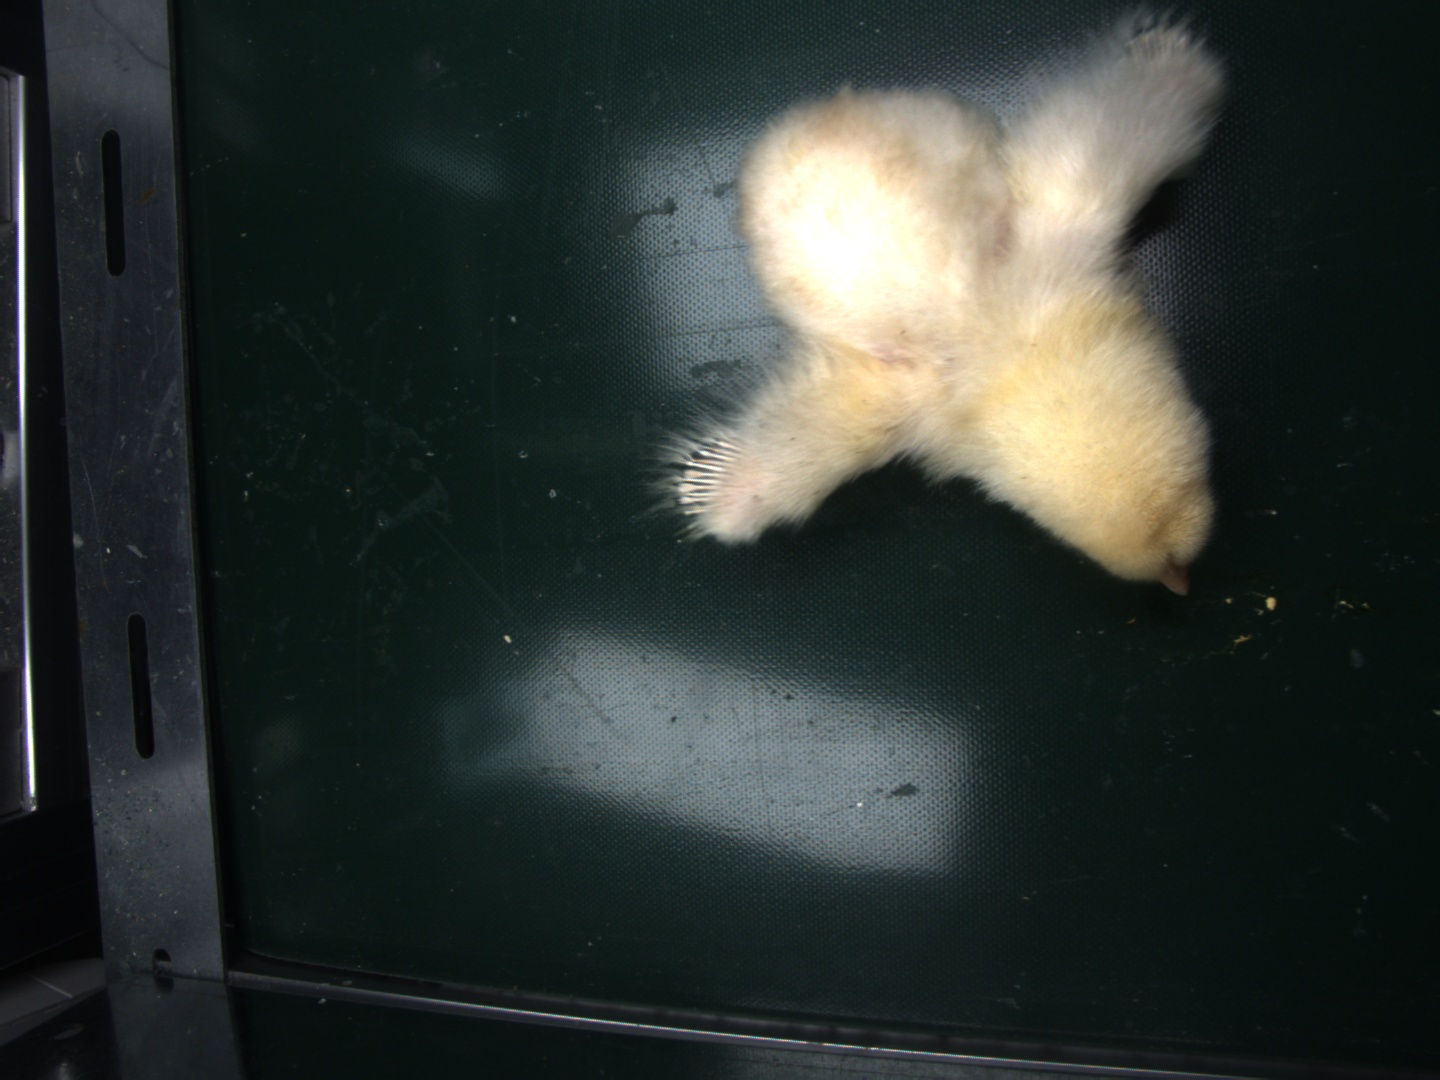male: (674, 440, 742, 517)
